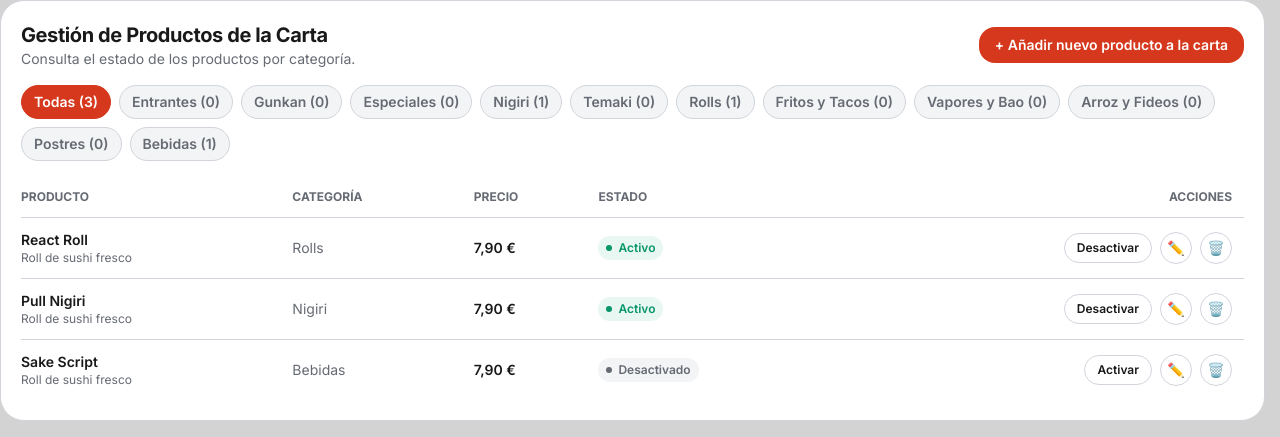
Test: AdminProductsPanel › filtering by category › shows only the products of the selected category
The image size is (1280, 437).
Click the button with class "category-filters__button" showing "Nigiri (1)" at {"x": 521, "y": 102}, box x1=480 y1=85 x2=562 y2=119
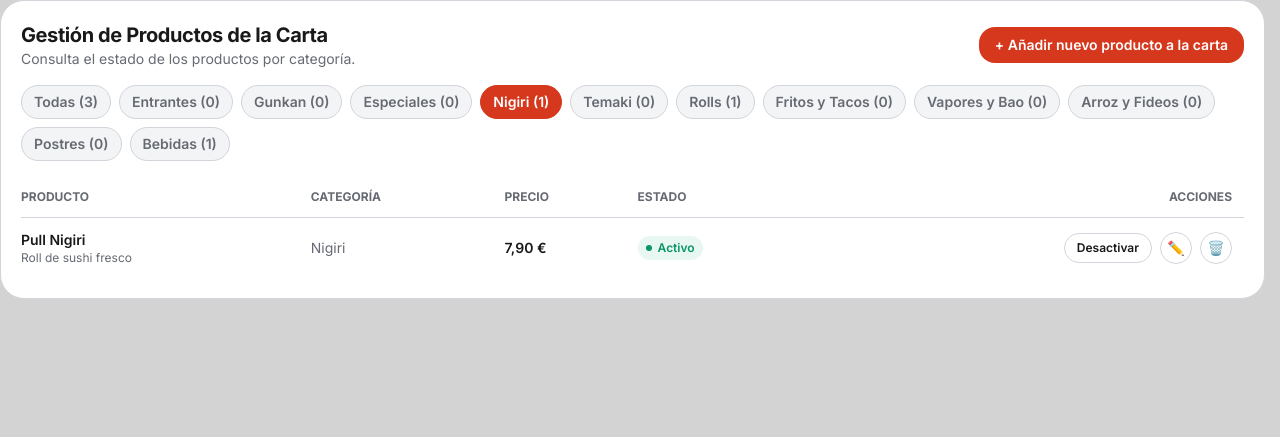
Expected: the text "Pull Nigiri" is shown, x1=21 y1=231 x2=86 y2=248
Now the text "React Roll" is gone
